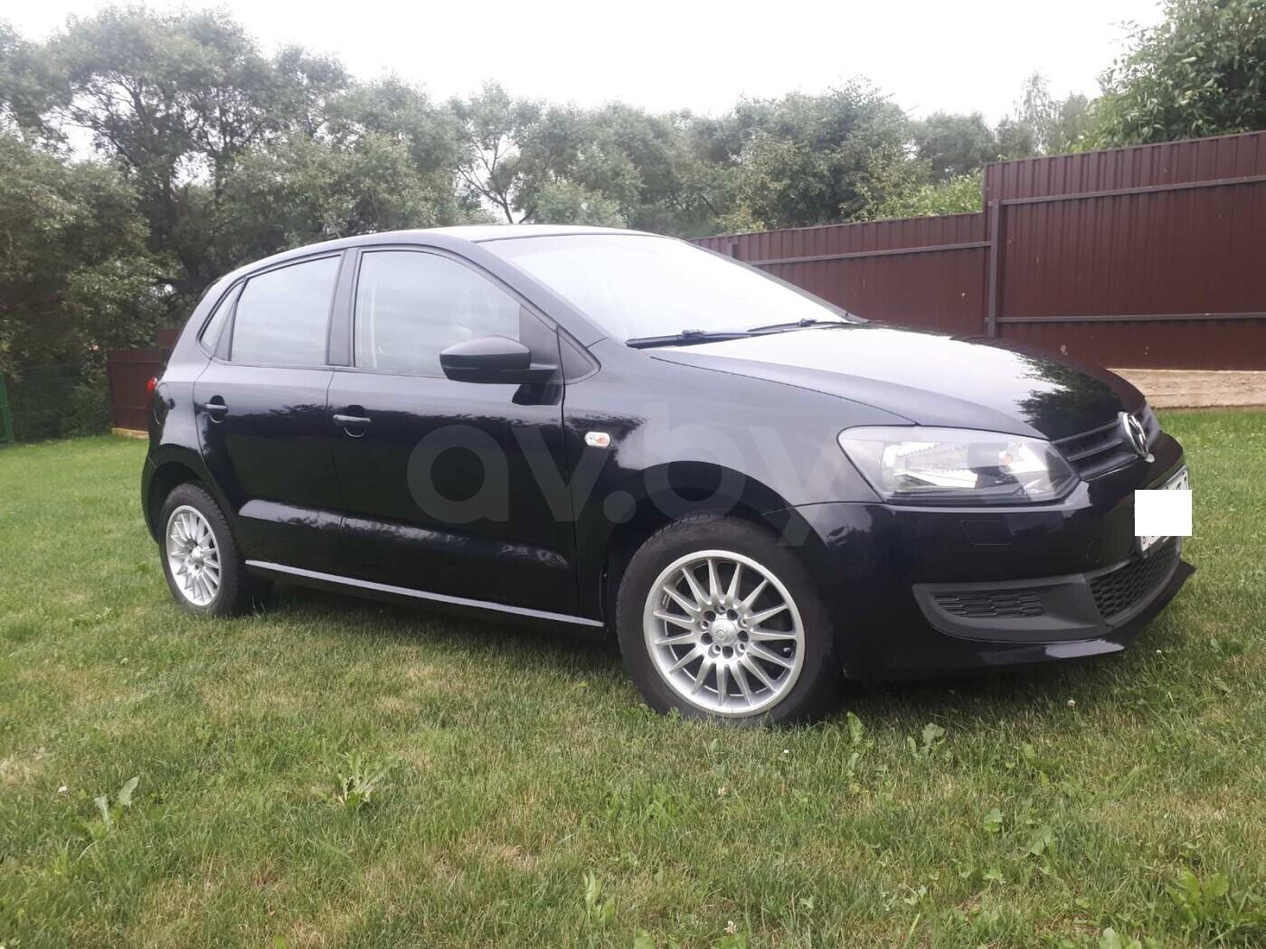Polo_2009-2015: (149, 194, 1215, 744)
